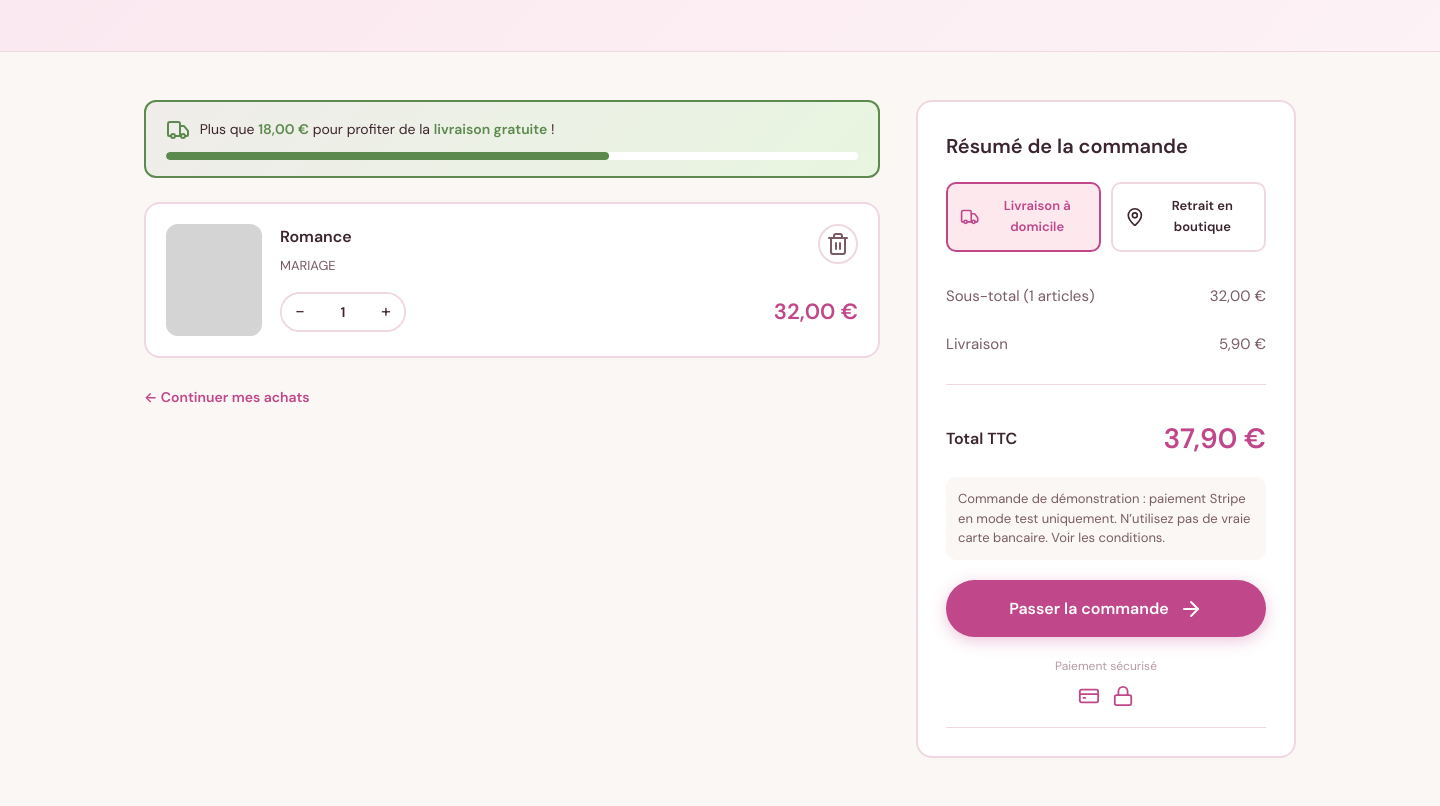
Test: Panier : transmission de commande et refus › conserve le panier et explique une erreur de création
The width and height of the screenshot is (1440, 806).
(page scrolled)
Click the button "Passer la commande" at (1106, 609), box 946,580 -> 1266,638
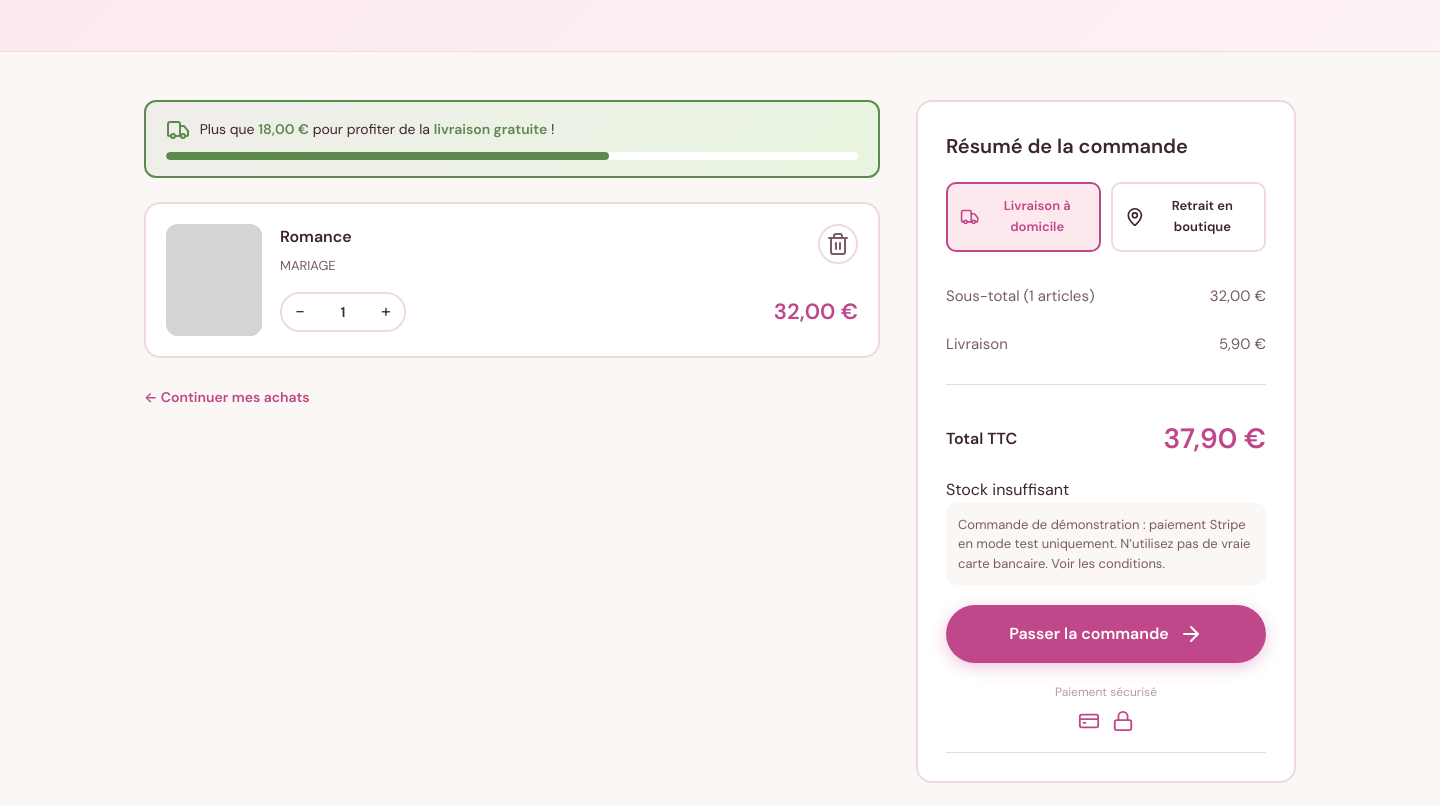
Expected: the button "Passer la commande" is enabled, 946,606 -> 1266,663
Expected: the text "Stock insuffisant" is shown, 946,479 -> 1069,500
